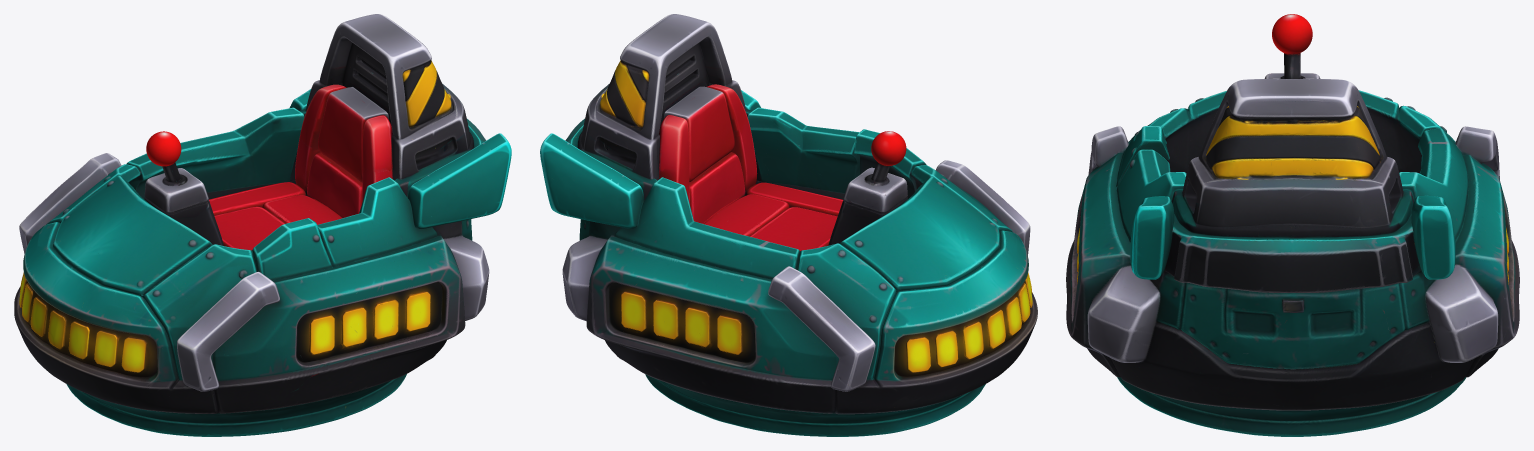
The model's file is Nave_3d.glb.
3 views of the same model, side by side, from view 1: azimuth 30°, elevation 25°; view 2: azimuth 150°, elevation 25°; view 3: azimuth 270°, elevation 25° (orthographic). The views are drawn at different scales.
Size of the model in its own units: 1.9 by 1.29 by 1.51.
1 material, 1 textured.
